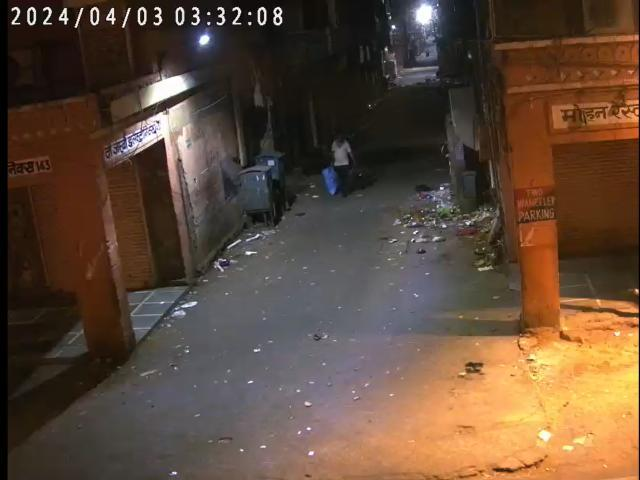person: (321, 132, 358, 196)
